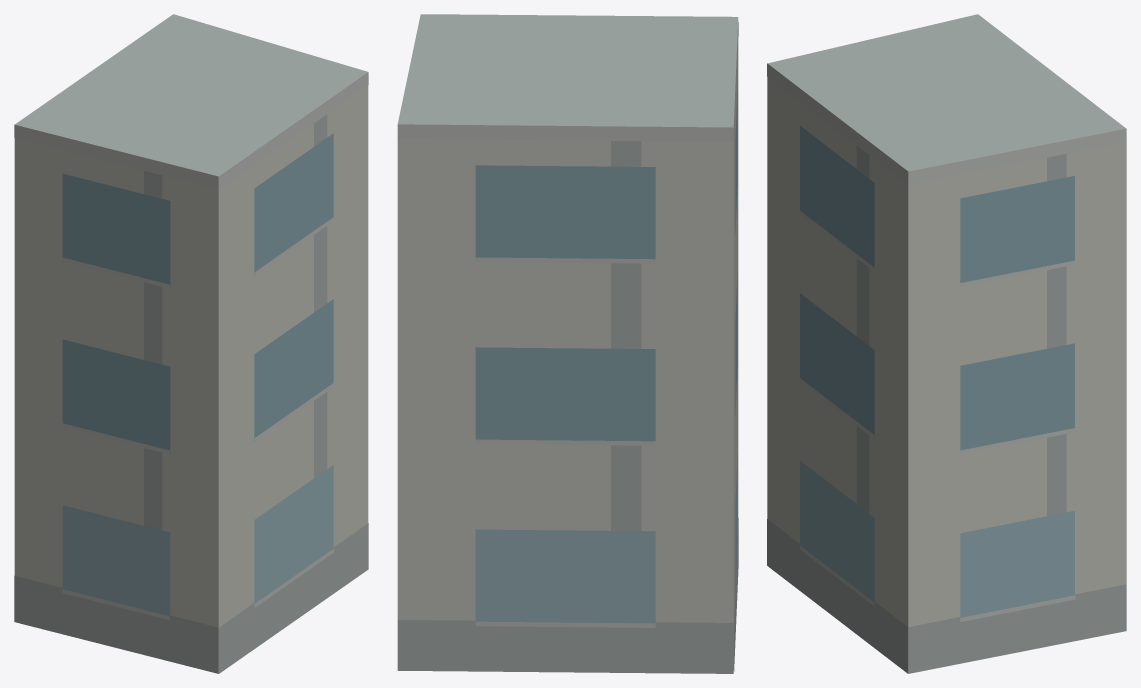
Rendered from survey-upis-33009970.glb.
The picture shows the model from 3 angles, left to right: view 1: azimuth 30°, elevation 25°; view 2: azimuth 150°, elevation 25°; view 3: azimuth 270°, elevation 25°; orthographic projection. The views are drawn at different scales.
Visible parts, largest first — view 1: survey-upis-33009970.tmp; view 2: survey-upis-33009970.tmp; view 3: survey-upis-33009970.tmp.
Boxes of the visible parts, box(x1,y1,x2,y2) form: survey-upis-33009970.tmp: box(14, 14, 368, 673); survey-upis-33009970.tmp: box(397, 14, 738, 673); survey-upis-33009970.tmp: box(767, 14, 1126, 673).
Size of the model in its own units: 6.16 by 9.15 by 5.94.
